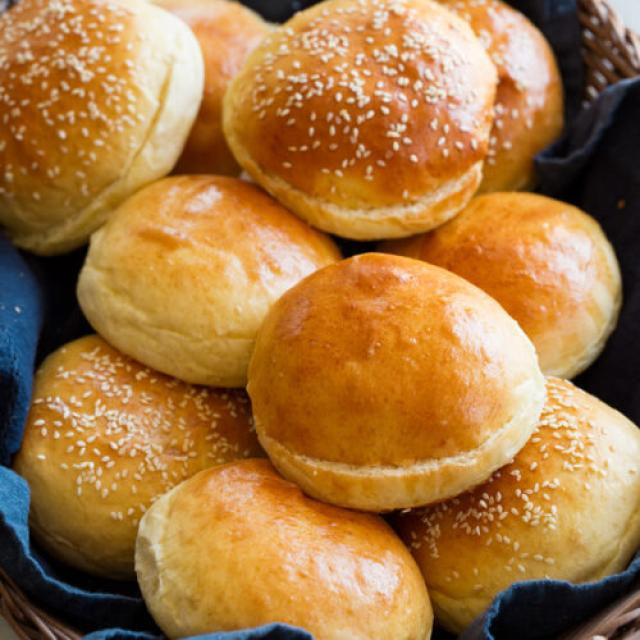Bun: (252, 253, 550, 510), (222, 0, 500, 243), (394, 361, 640, 625), (16, 338, 274, 579), (73, 173, 334, 389), (133, 461, 437, 640), (0, 0, 210, 253), (384, 192, 624, 387)
